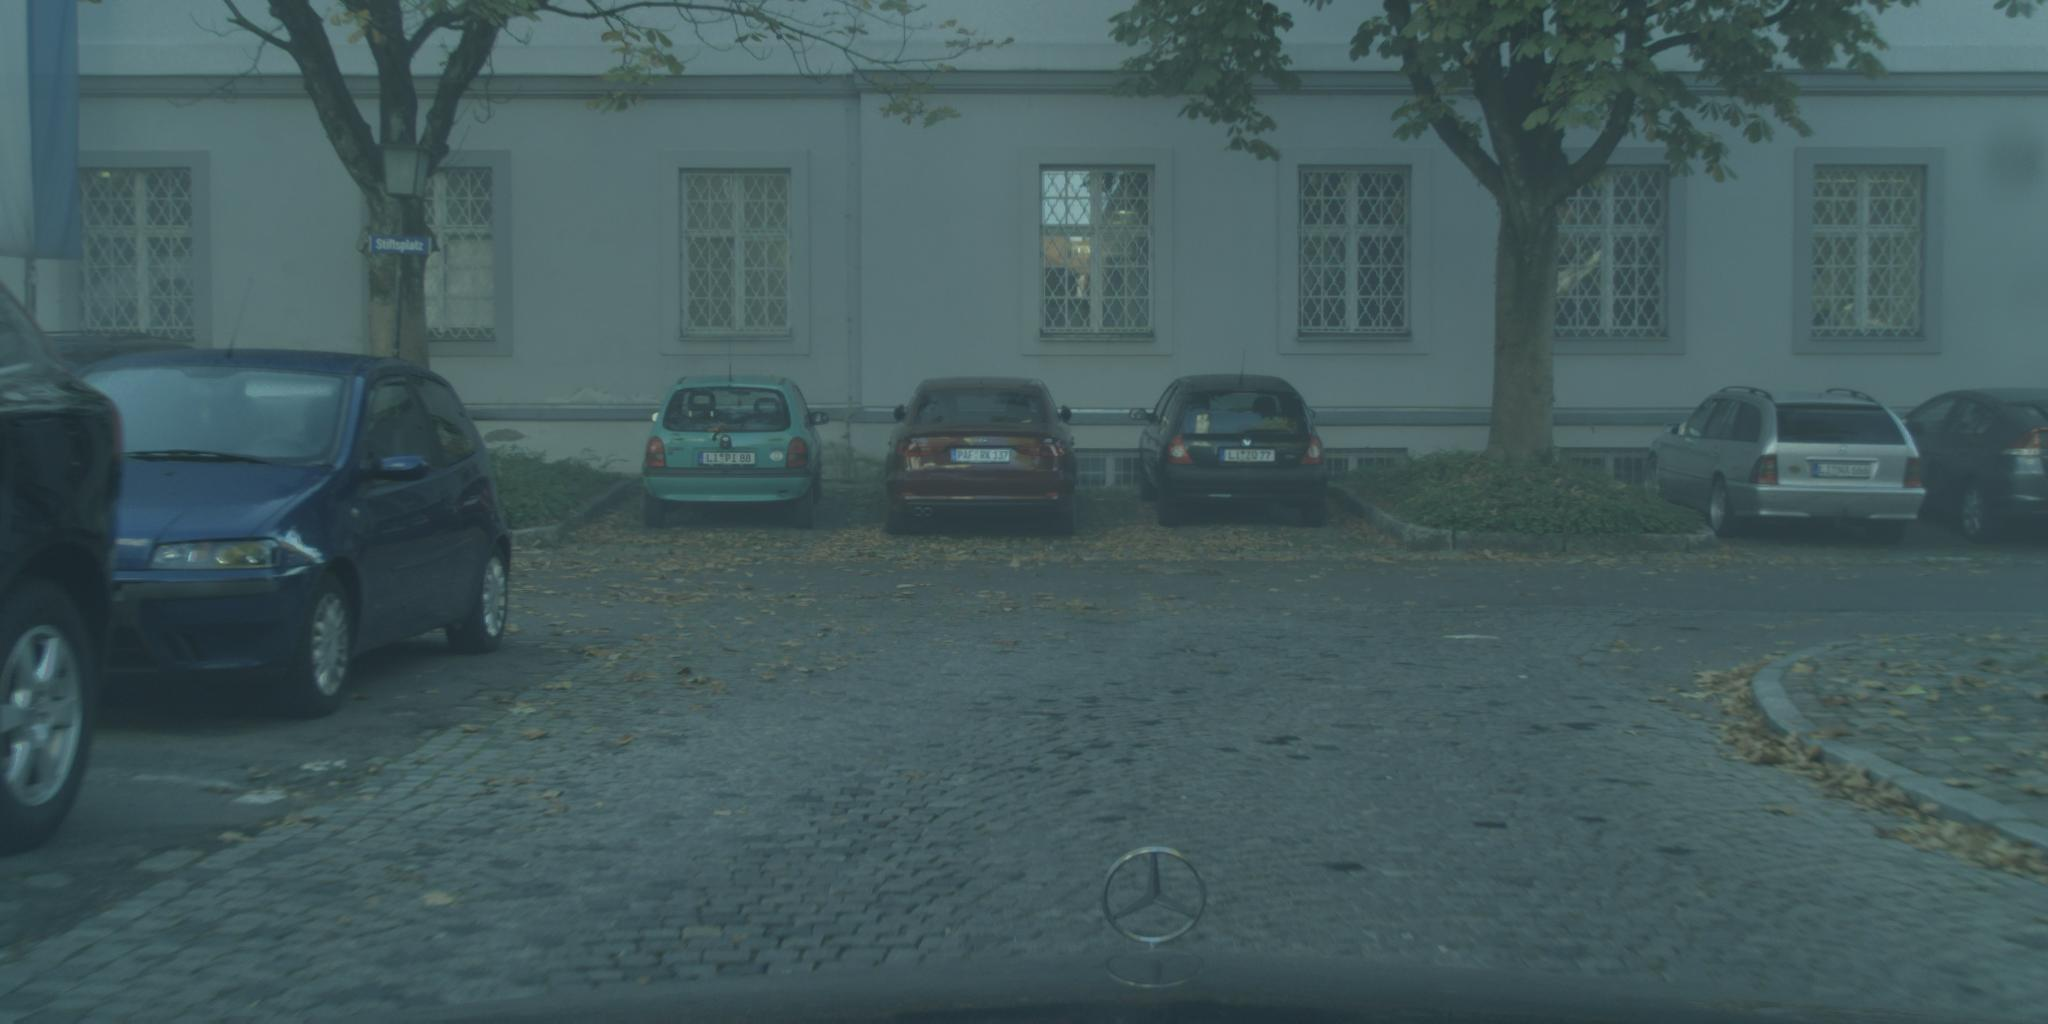car: (72, 283, 513, 718), (1, 276, 127, 858), (1646, 387, 1923, 545), (1131, 351, 1330, 530), (884, 376, 1078, 538), (643, 364, 829, 530), (1904, 388, 2048, 543), (37, 330, 199, 391)
